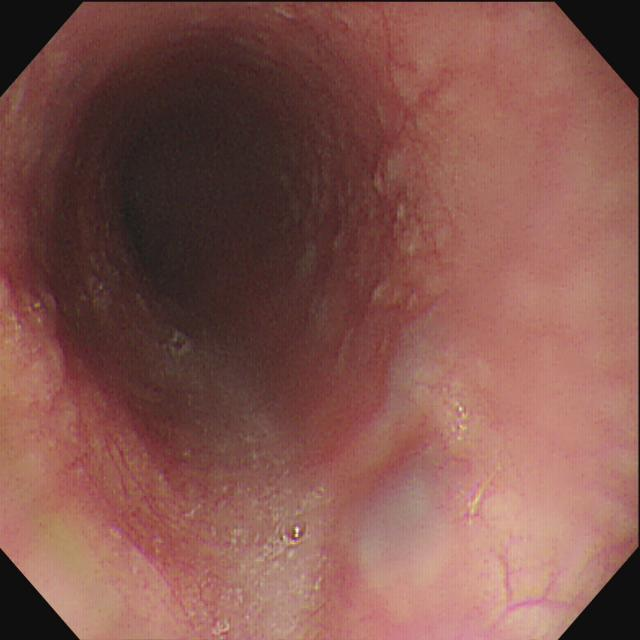A: (9, 275, 93, 460), (359, 156, 434, 318)
E: (99, 105, 317, 351)
T: (173, 334, 312, 564)
